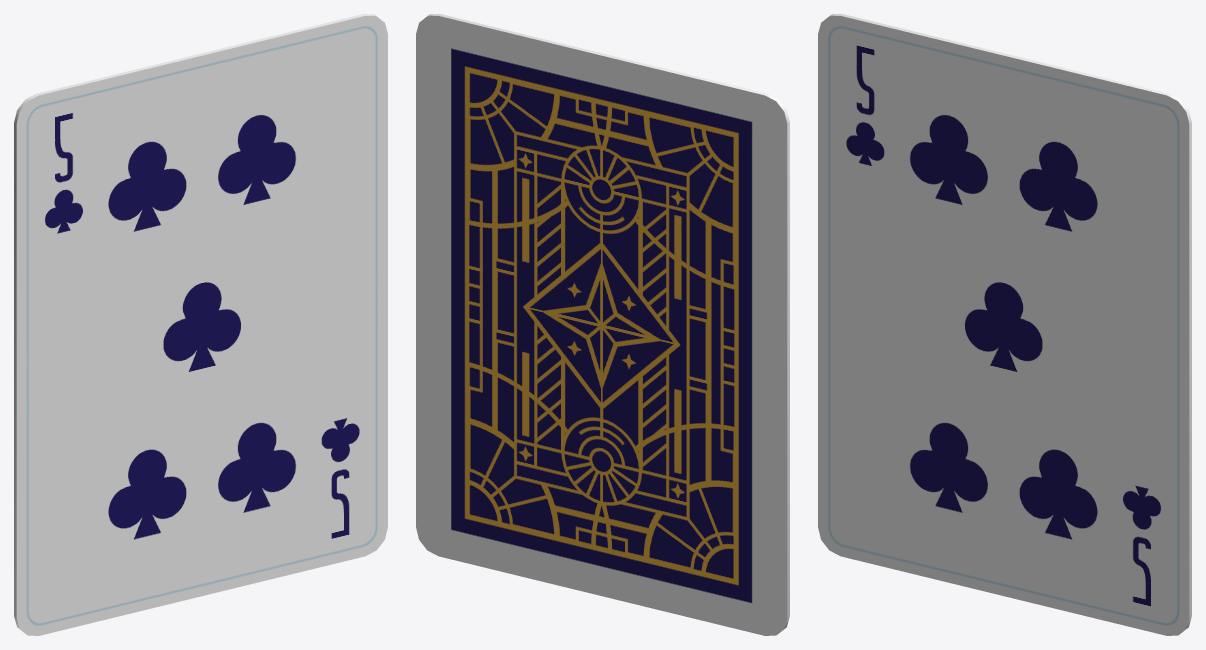
Rendered from card_clubs_five.obj.
The picture shows the model from 3 angles, left to right: view 1: azimuth 30°, elevation 25°; view 2: azimuth 150°, elevation 25°; view 3: azimuth 330°, elevation 25°; orthographic projection.
Visible parts, largest first — view 1: card_clubs_five; view 2: card_clubs_five; view 3: card_clubs_five.
Part boxes in pixels (box(x1,y1,x2,y2)): card_clubs_five: box(14, 14, 387, 635); card_clubs_five: box(416, 14, 789, 635); card_clubs_five: box(818, 14, 1191, 635).
Bounding box in the file's own units: 4.31 × 6 × 0.05.
Materials: 2 (2 with a texture image).
